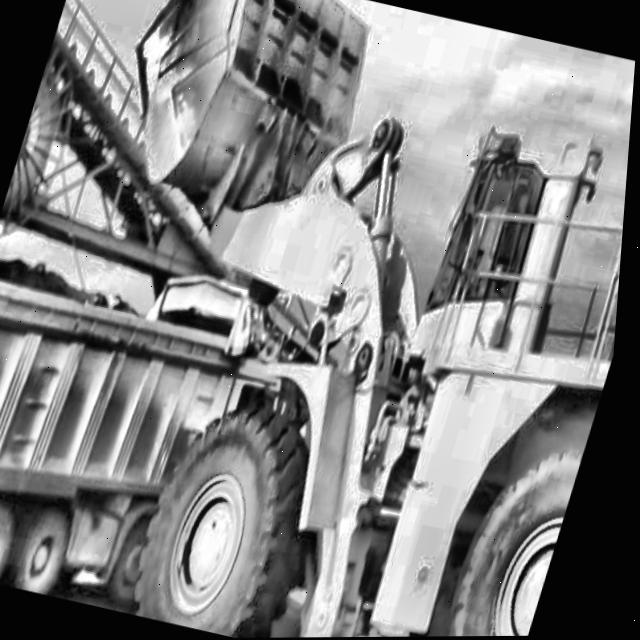buldozerpayloadergrader: (0, 0, 640, 640)
dump_truck: (0, 155, 335, 632)
